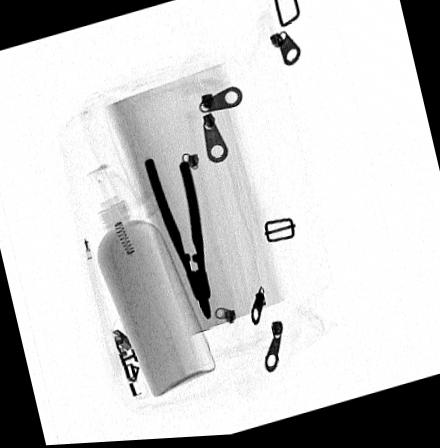Pliers: (145, 157, 211, 323)
